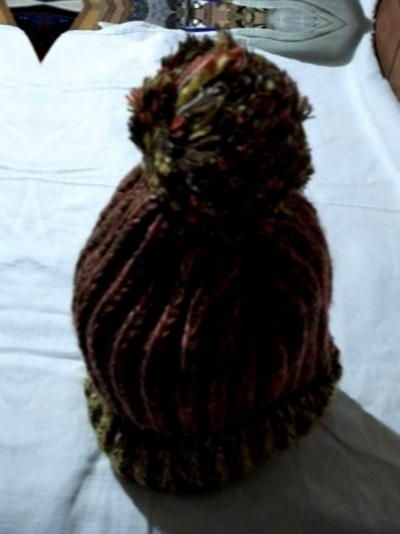Hat: (38, 22, 393, 482), (0, 0, 18, 456), (71, 0, 400, 9)
